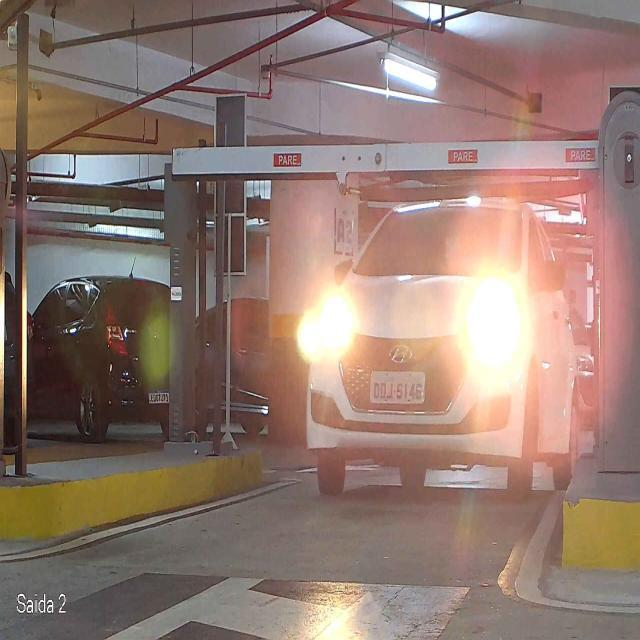old_plate: (369, 370, 427, 405)
